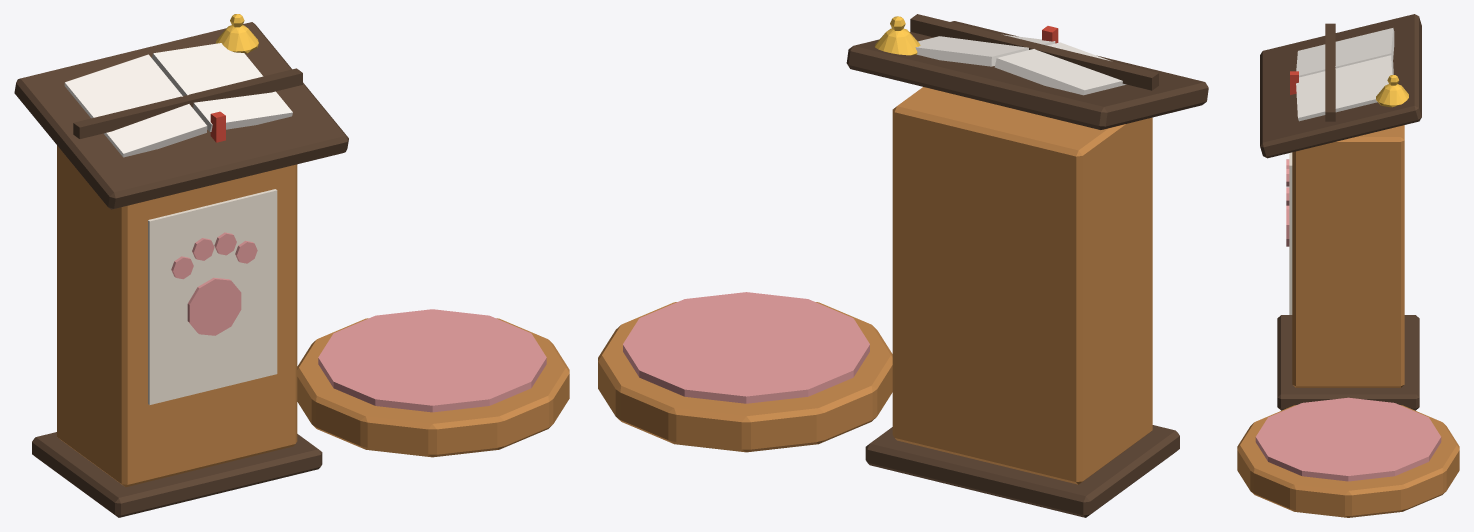
File: CatCafe_Furniture_GreeterPodium.fbx
3 renders of one model, left to right at view 1: azimuth 30°, elevation 25°; view 2: azimuth 150°, elevation 25°; view 3: azimuth 270°, elevation 25°, orthographic. The views are drawn at different scales.
Visible parts, largest first — view 1: CatCafe_Furniture_GreeterPodium; view 2: CatCafe_Furniture_GreeterPodium; view 3: CatCafe_Furniture_GreeterPodium.
Boxes of the visible parts, bbox=[...] form: CatCafe_Furniture_GreeterPodium: bbox=[14, 14, 569, 517]; CatCafe_Furniture_GreeterPodium: bbox=[598, 14, 1208, 517]; CatCafe_Furniture_GreeterPodium: bbox=[1237, 14, 1459, 517].
Size of the model in its own units: 3.09 by 2.44 by 1.49.
1 material, 1 textured.
